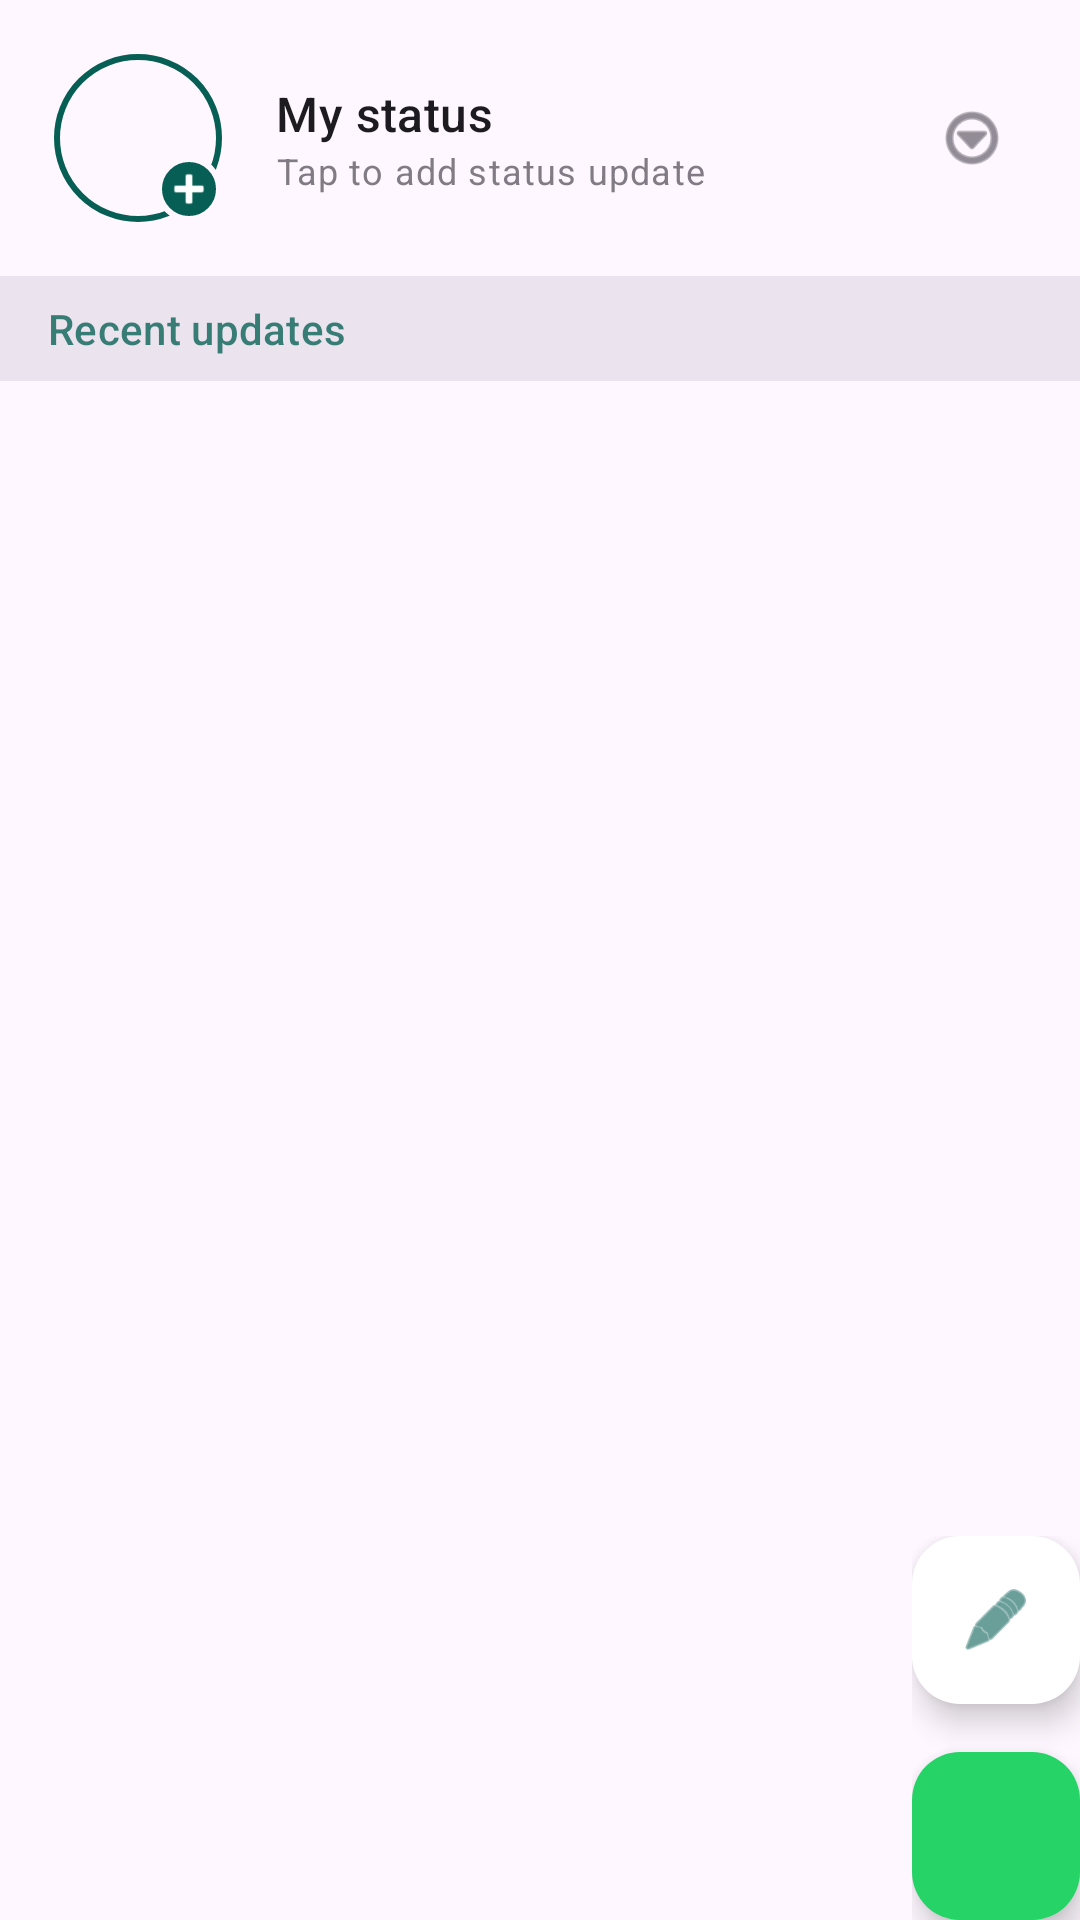

Where icons sit on this 1080×1920 app screen, as (x1, y1, x2, y2):
more: (945, 111, 999, 165)
Text status: (912, 1536, 1080, 1704)
